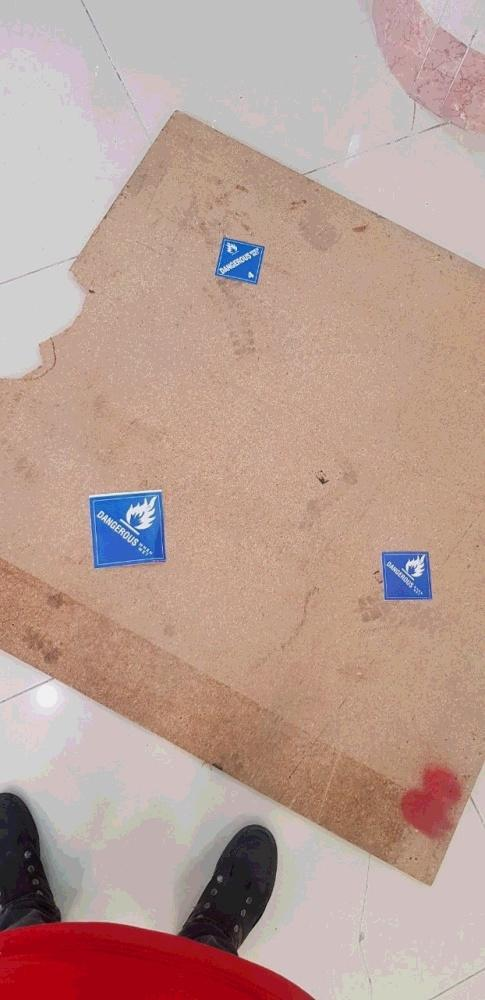dangerous-when-wet: (90, 491, 164, 569), (214, 236, 266, 288), (383, 551, 430, 603)
